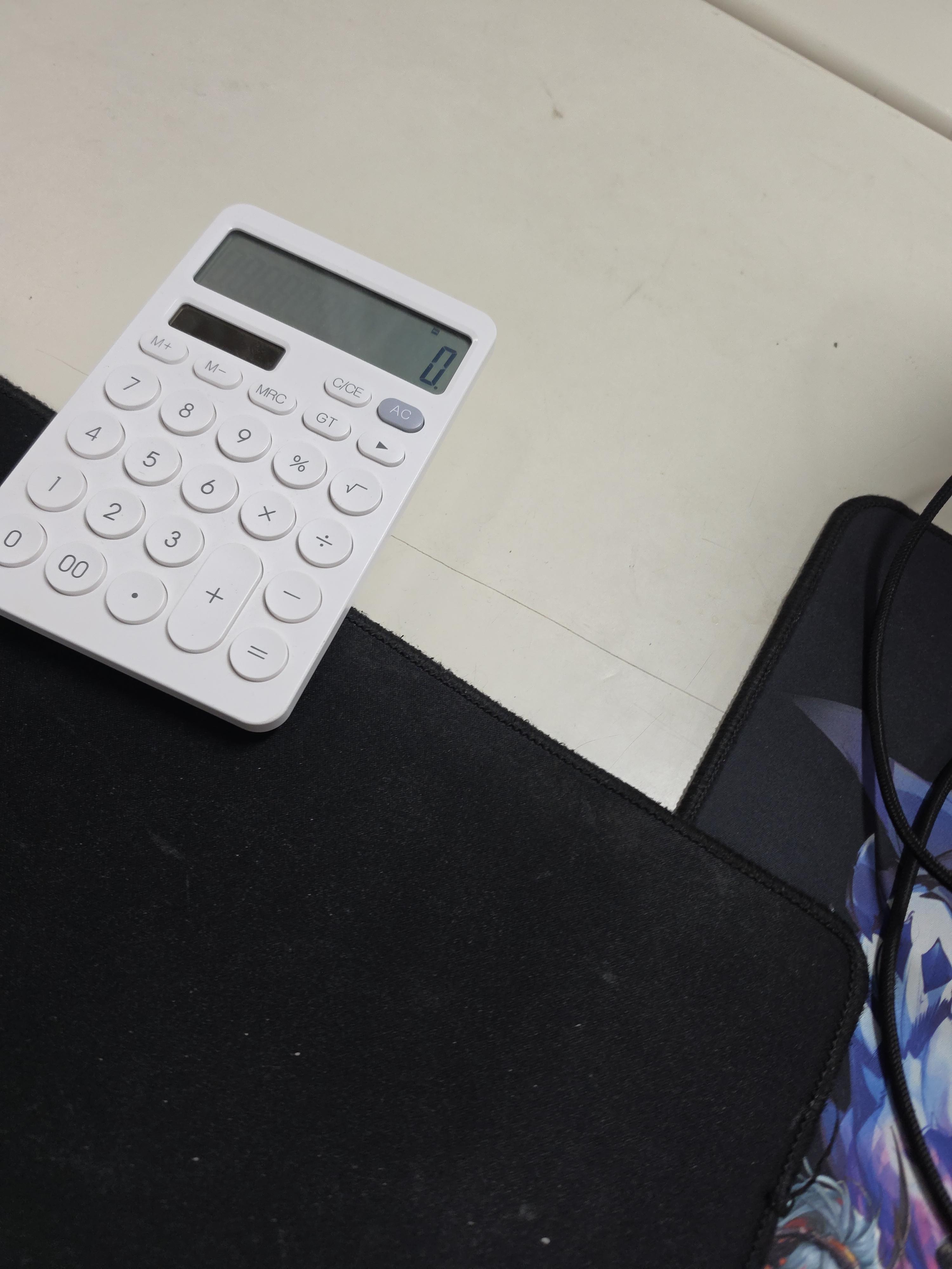calculator: (0, 203, 498, 733)
